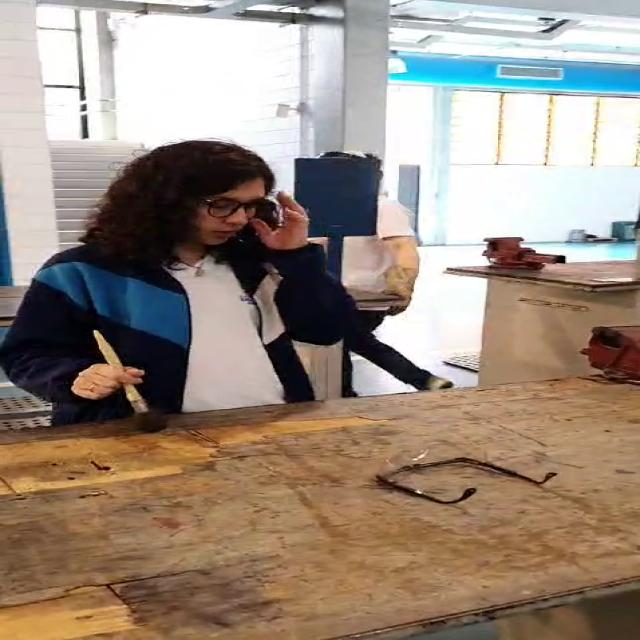sem_oculos: (166, 181, 292, 233)
